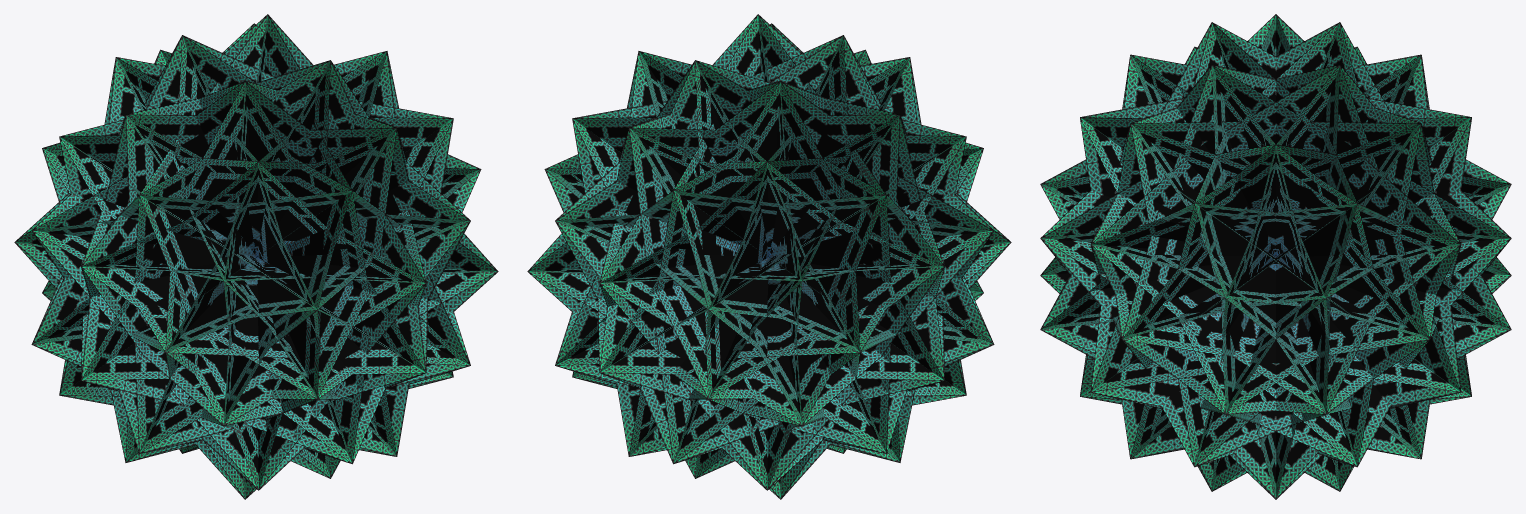
Rendered from 22GreatDirhombicosidodecahedron.gltf.
The picture shows the model from 3 angles, left to right: view 1: azimuth 30°, elevation 25°; view 2: azimuth 150°, elevation 25°; view 3: azimuth 270°, elevation 25°; orthographic projection. The views are drawn at different scales.
Parts seen in each view (by area): view 1: GreatDirhombicosidodecahedron12; view 2: GreatDirhombicosidodecahedron12; view 3: GreatDirhombicosidodecahedron12.
Part boxes in pixels (x1,y1,x2,y2): GreatDirhombicosidodecahedron12: (14, 14, 498, 499); GreatDirhombicosidodecahedron12: (527, 14, 1011, 499); GreatDirhombicosidodecahedron12: (1040, 14, 1511, 499).
Bounding box in the file's own units: 1.34 × 1.34 × 1.34.
1 material, 1 textured.
